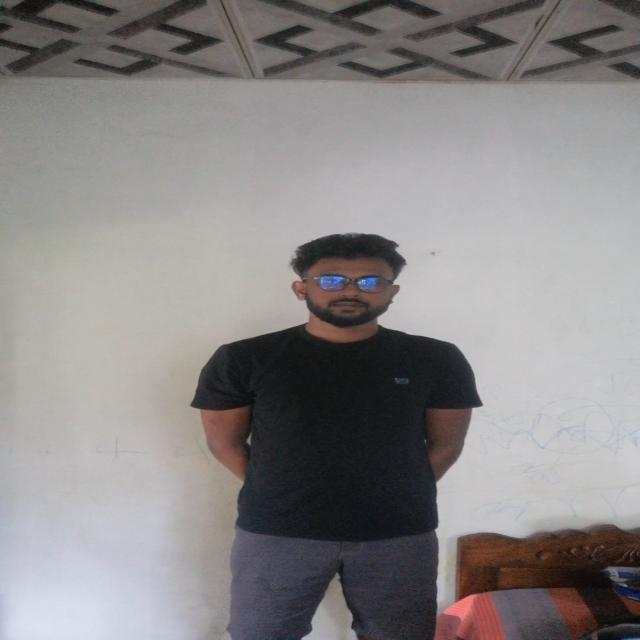Person: (184, 230, 482, 640)
